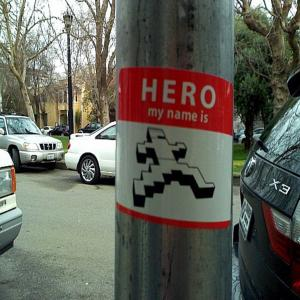Vehicle-registration-plate: (239, 200, 254, 241)
